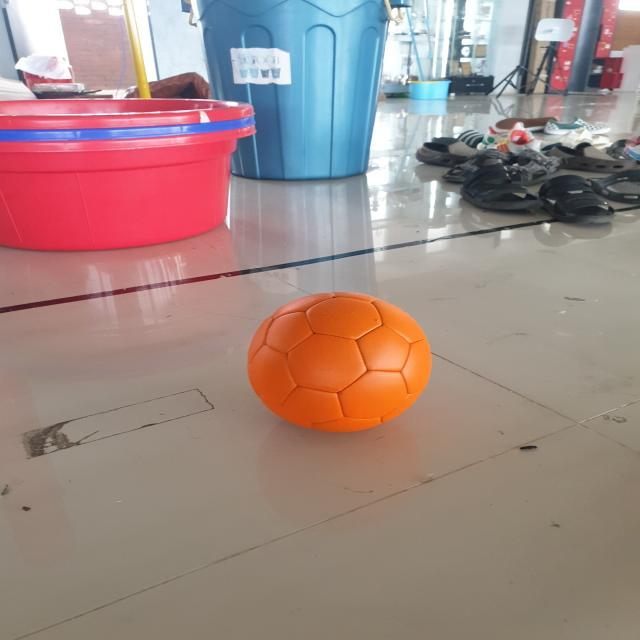bola: (243, 288, 433, 434)
